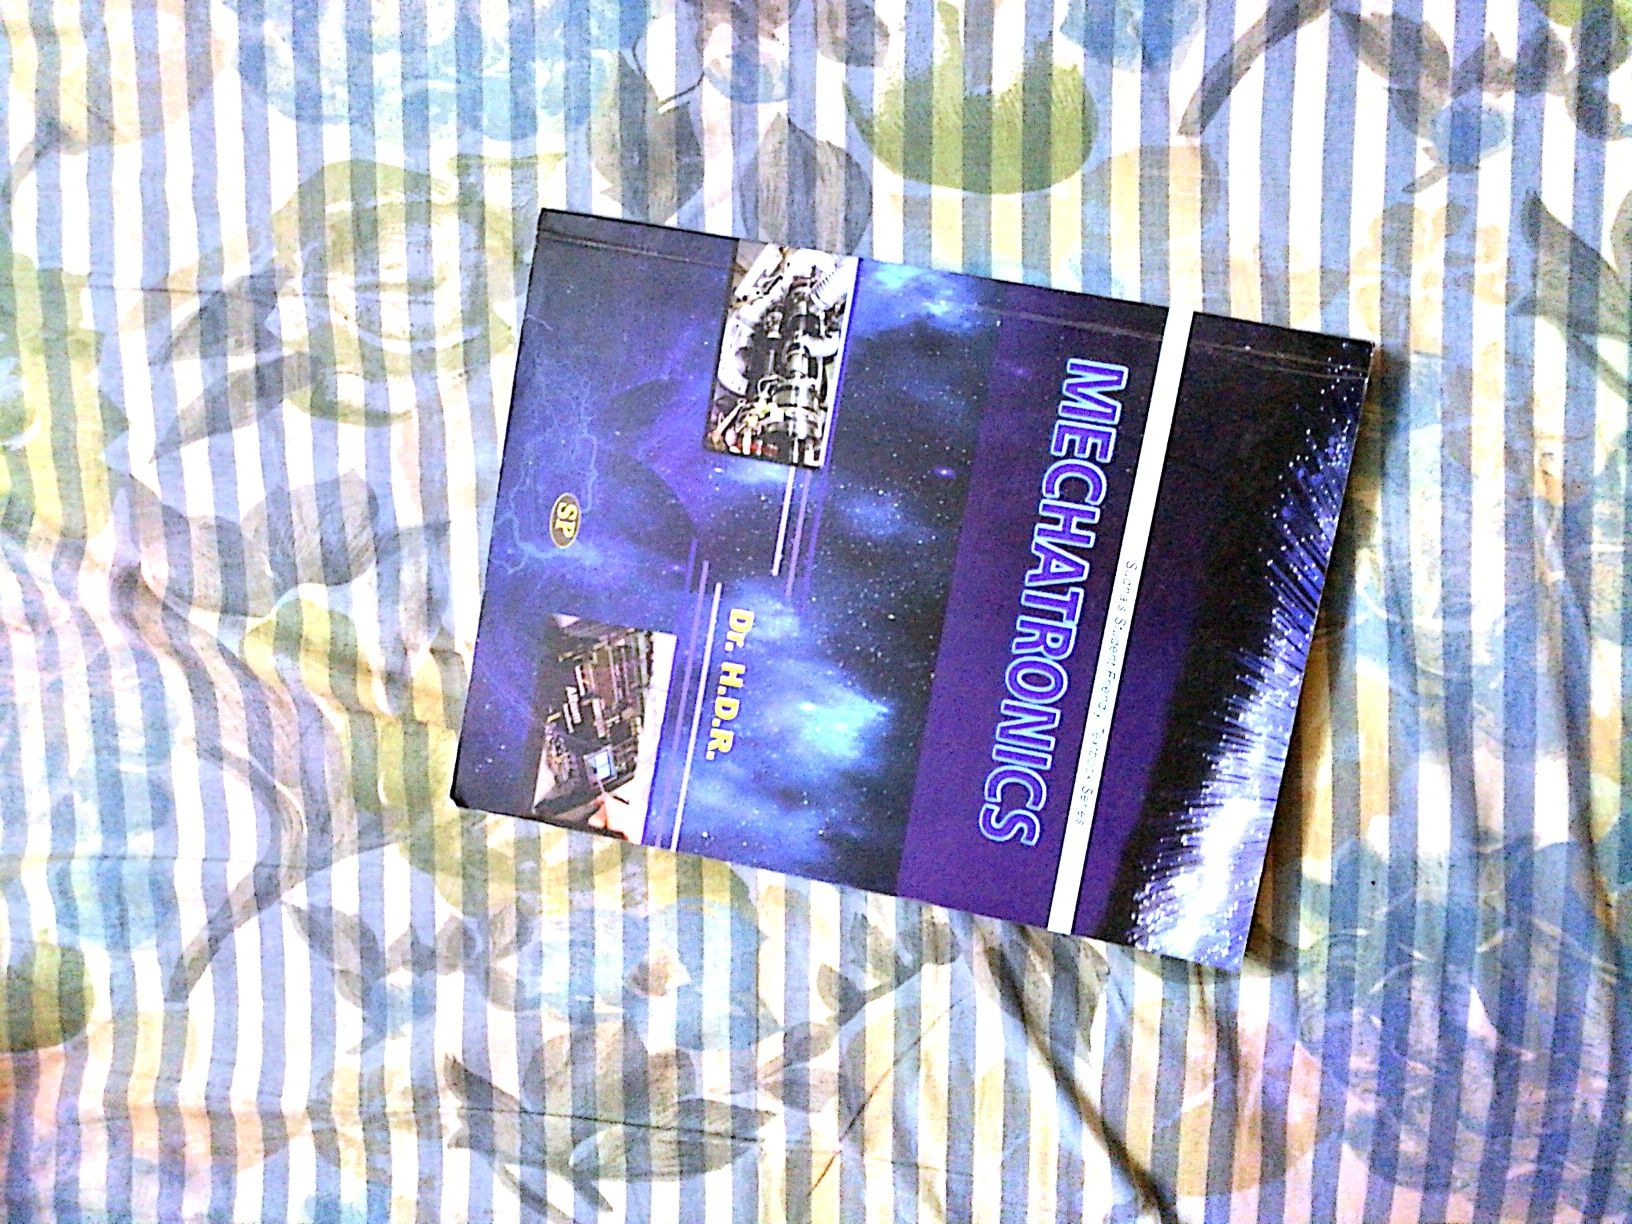mechatronics: (423, 194, 1342, 1020)
